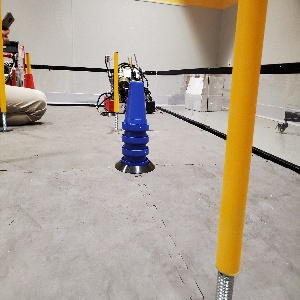Blue_4: (120, 80, 149, 166)
